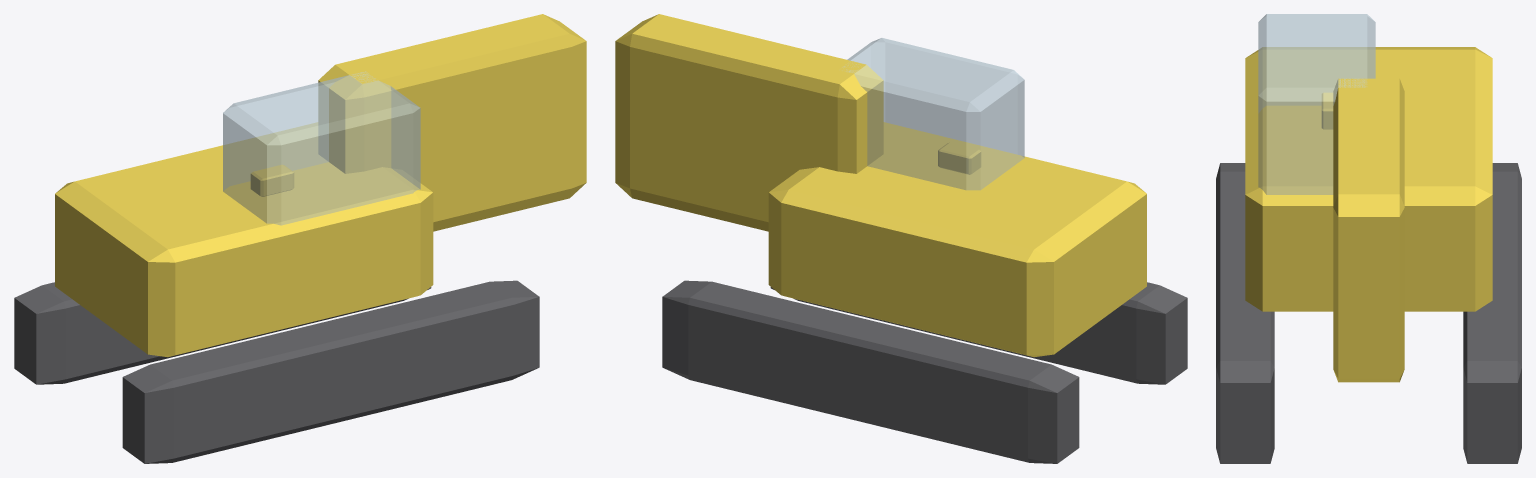
File: b07_tracked_hydraulic_excavator.glb
3 views of the same model, side by side, from view 1: azimuth 30°, elevation 25°; view 2: azimuth 150°, elevation 25°; view 3: azimuth 270°, elevation 25° (orthographic). The views are drawn at different scales.
Visible parts, largest first — view 1: b07_tracked_hydraulic_excavator; view 2: b07_tracked_hydraulic_excavator; view 3: b07_tracked_hydraulic_excavator.
Boxes of the visible parts, bbox=[...] form: b07_tracked_hydraulic_excavator: bbox=[14, 14, 586, 463]; b07_tracked_hydraulic_excavator: bbox=[615, 14, 1187, 463]; b07_tracked_hydraulic_excavator: bbox=[1216, 14, 1521, 463].
Bounding box in the file's own units: 6.57 × 3.58 × 3.09.
